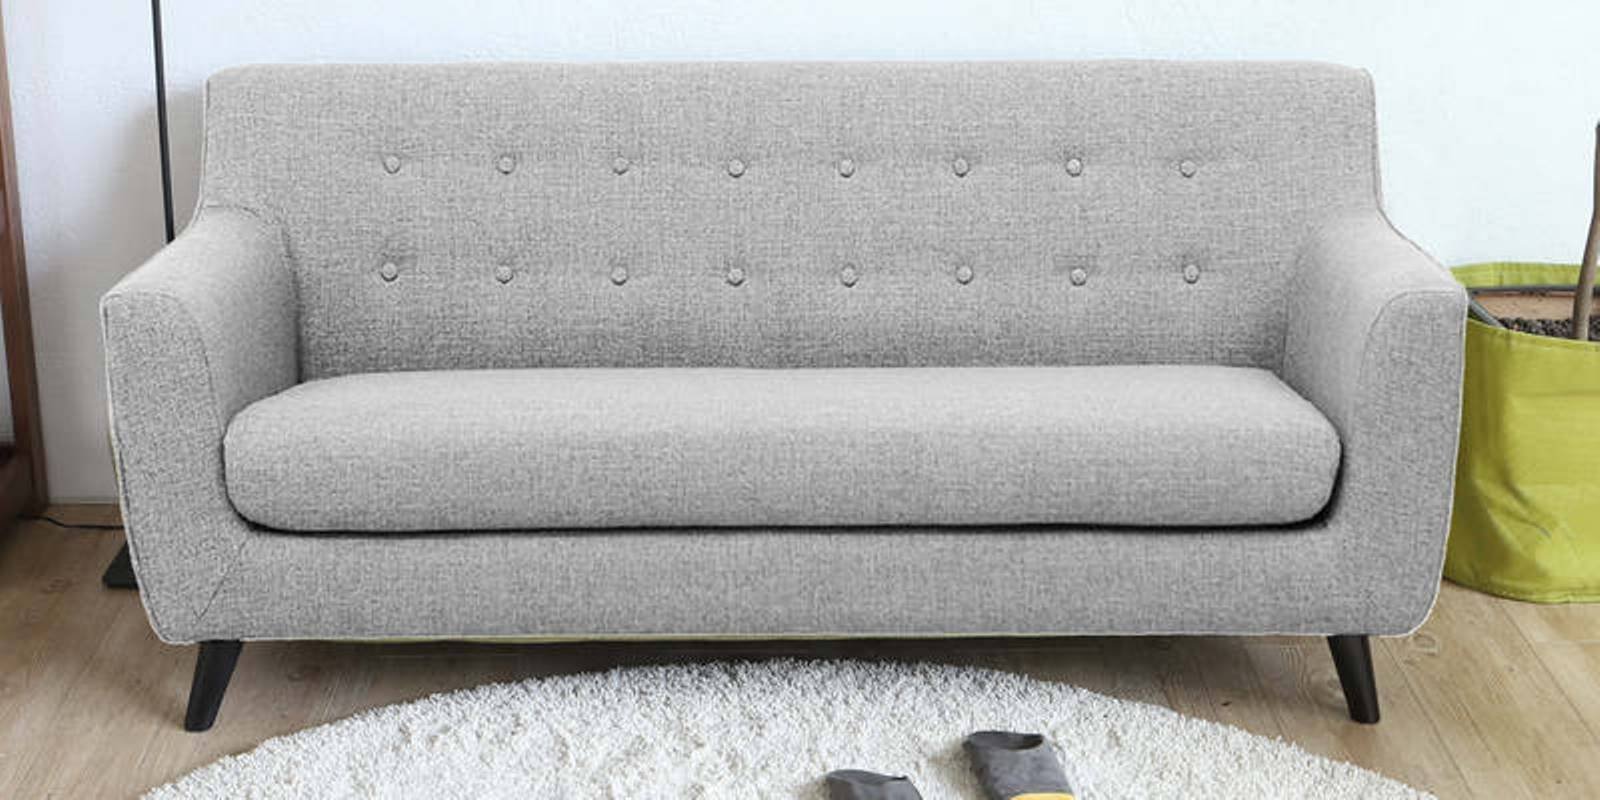Bogota Three Seater Sofa in Grey Colour by CasaCraft: (102, 57, 1480, 736)
